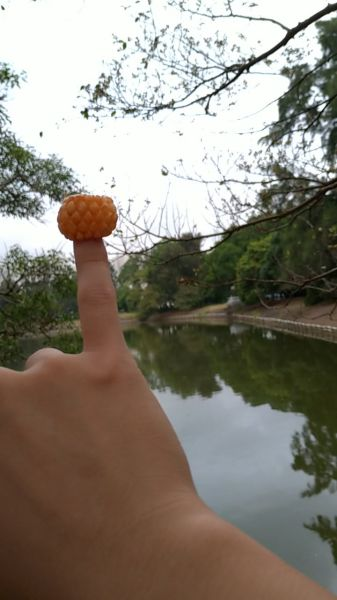eggs: (57, 195, 117, 240)
